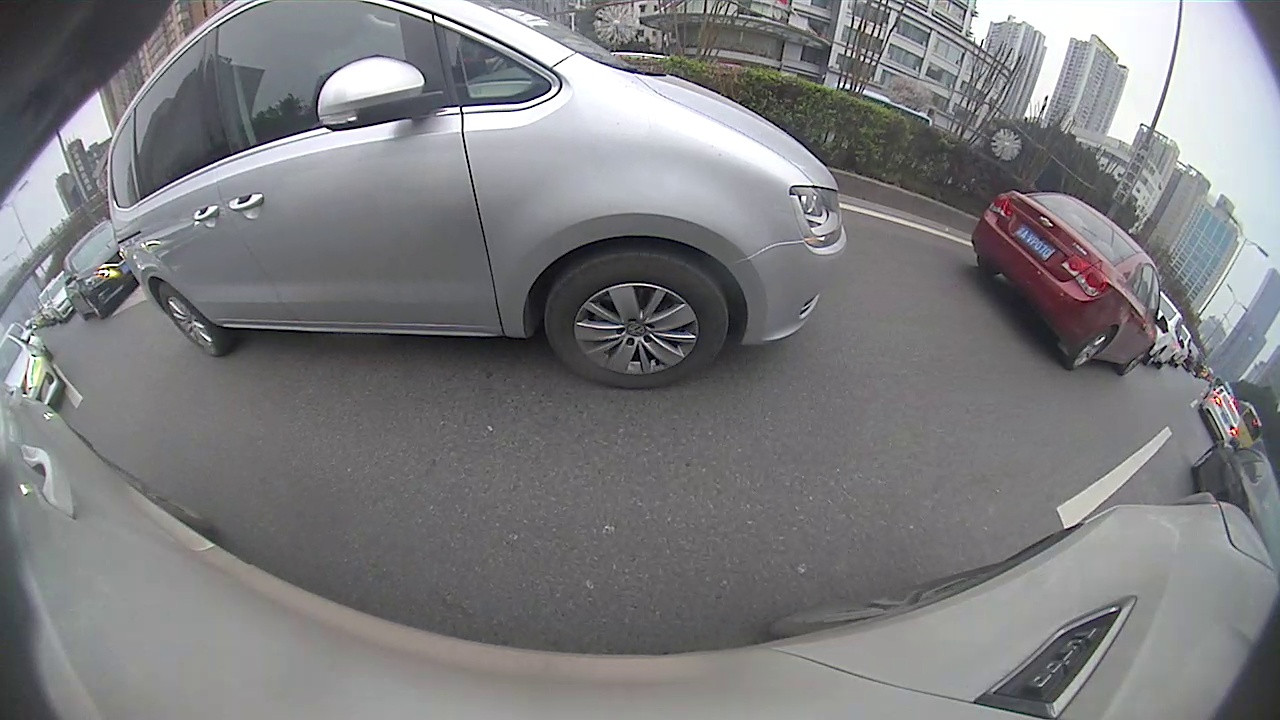car: (104, 1, 848, 391), (969, 190, 1171, 377), (60, 218, 139, 323), (1202, 388, 1240, 447)
front: (548, 251, 729, 387)
rear: (154, 280, 227, 360), (1067, 325, 1119, 371)
